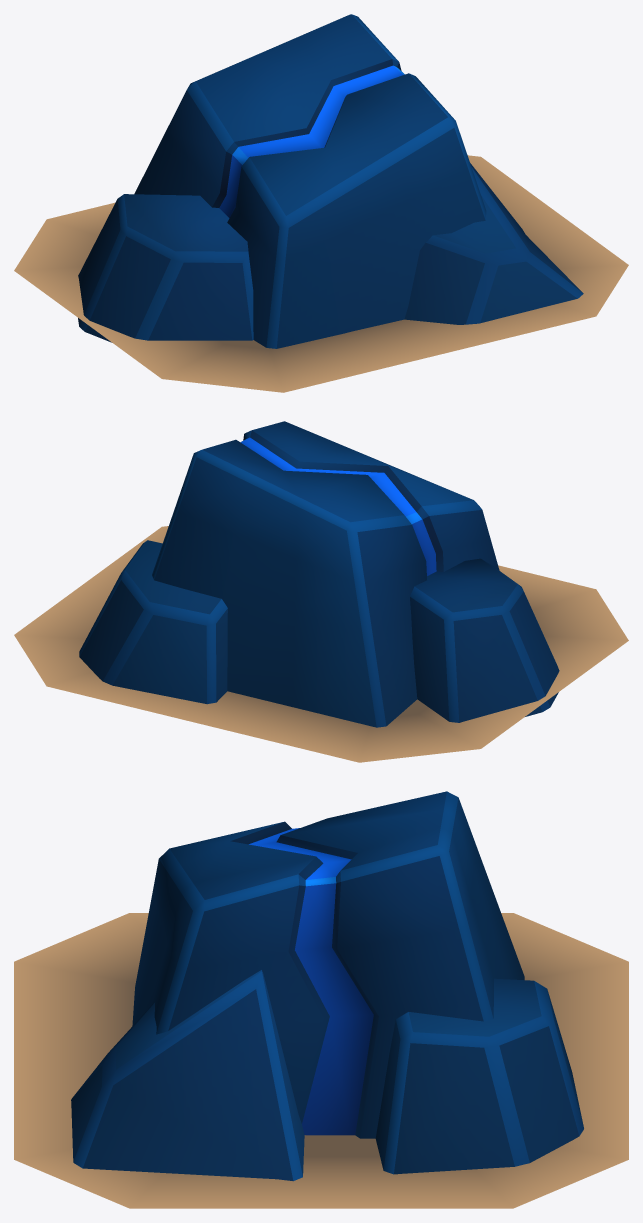
The model's file is Stone_Big.fbx.
The picture shows the model from 3 angles, top to bottom: view 1: azimuth 30°, elevation 25°; view 2: azimuth 150°, elevation 25°; view 3: azimuth 270°, elevation 25°; orthographic projection. The views are drawn at different scales.
Visible parts, largest first — view 1: Stone_Big; view 2: Stone_Big; view 3: Stone_Big.
Boxes of the visible parts, bbox=[...] form: Stone_Big: bbox=[14, 14, 628, 392]; Stone_Big: bbox=[14, 421, 628, 762]; Stone_Big: bbox=[14, 791, 628, 1208].
Bounding box in the file's own units: 3602 × 1570 × 3165.
